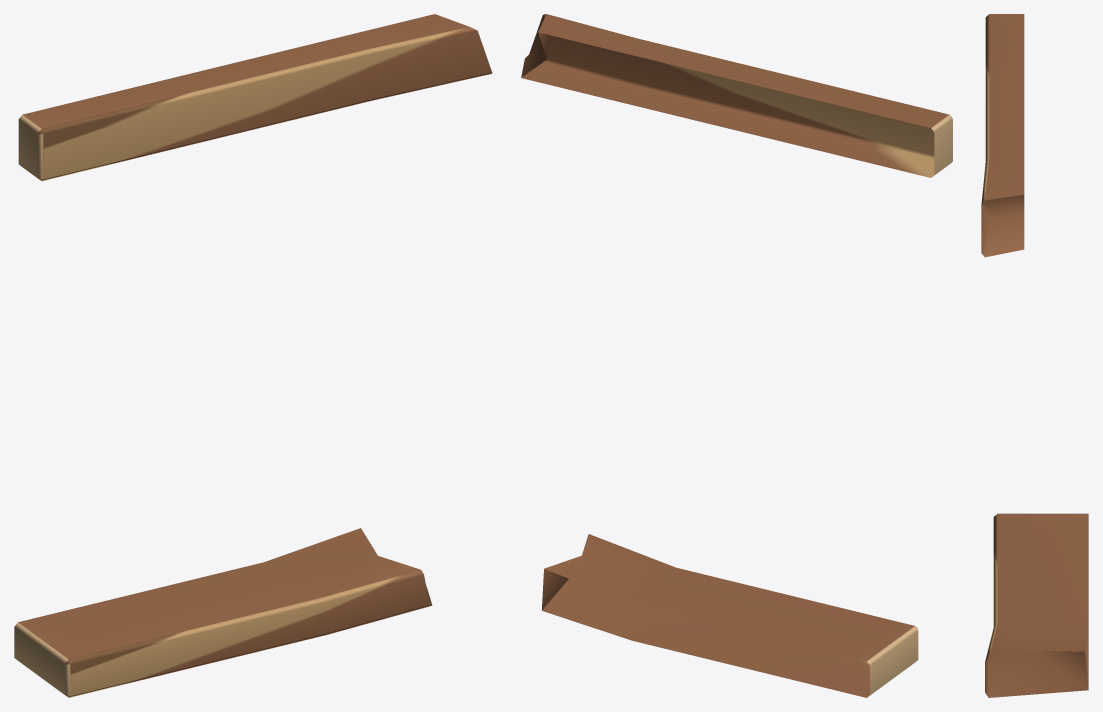
Rendered from DBK_WinDouble_Trim_D_Side.fbx.
3 views of the same model, side by side, from view 1: azimuth 30°, elevation 25°; view 2: azimuth 150°, elevation 25°; view 3: azimuth 270°, elevation 25° (orthographic). The views are drawn at different scales.
Visible parts, largest first — view 1: DBK_WinDouble_Trim_D_Side; view 2: DBK_WinDouble_Trim_D_Side; view 3: DBK_WinDouble_Trim_D_Side.
Boxes of the visible parts, left/top/right/bottom form: DBK_WinDouble_Trim_D_Side: left=14, top=14, right=492, bottom=697; DBK_WinDouble_Trim_D_Side: left=521, top=14, right=952, bottom=697; DBK_WinDouble_Trim_D_Side: left=981, top=14, right=1088, bottom=697.
Bounding box in the file's own units: 116 × 142 × 26.6.
